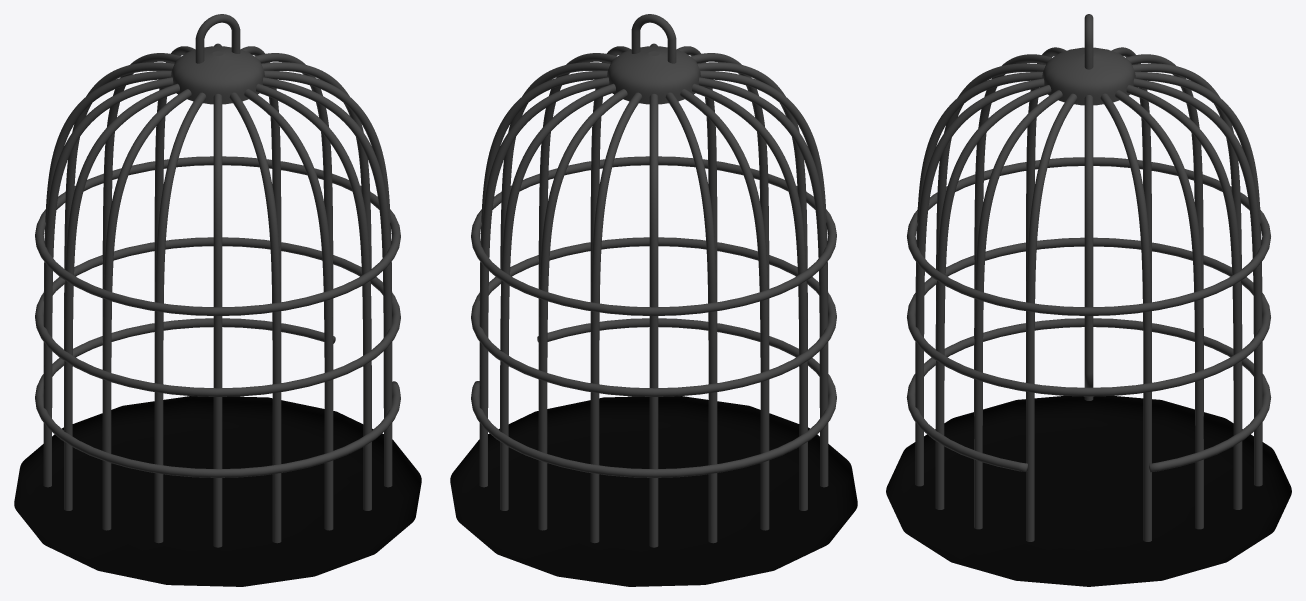
File: Celda.fbx
3 renders of one model, left to right at view 1: azimuth 30°, elevation 25°; view 2: azimuth 150°, elevation 25°; view 3: azimuth 270°, elevation 25°, orthographic.
Visible parts, largest first — view 1: Jaula; view 2: Jaula; view 3: Jaula.
Boxes of the visible parts, bbox=[...] form: Jaula: bbox=[14, 14, 421, 586]; Jaula: bbox=[450, 14, 857, 586]; Jaula: bbox=[886, 14, 1291, 586].
Size of the model in its own units: 850 by 1126 by 842.
2 materials, 2 textured.
